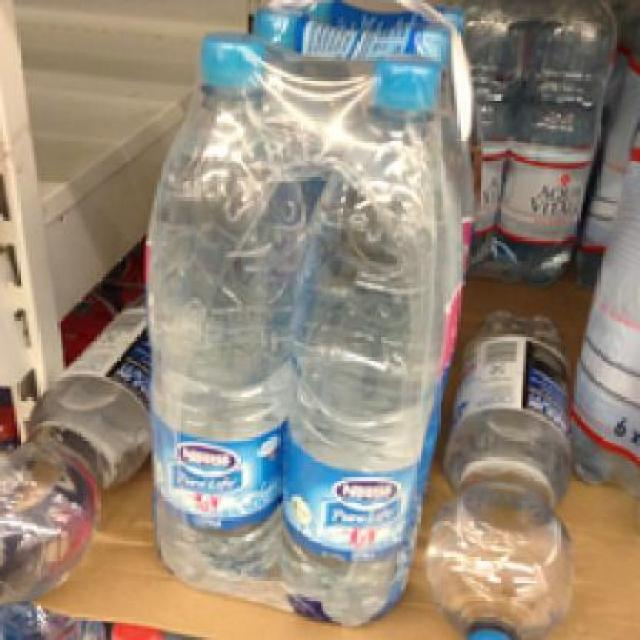Water: (277, 49, 454, 620), (140, 23, 300, 583), (423, 302, 580, 638)
